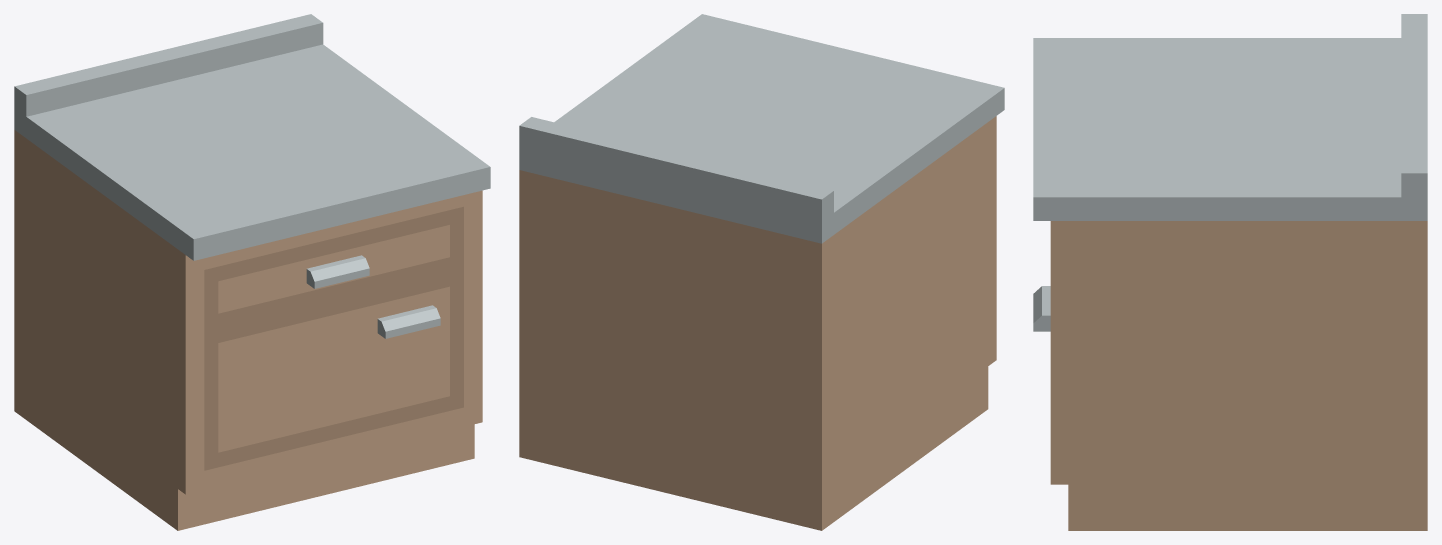
Rendered from kitchenCabinetDrawer.glb.
3 renders of one model, left to right at view 1: azimuth 30°, elevation 25°; view 2: azimuth 150°, elevation 25°; view 3: azimuth 270°, elevation 25°, orthographic. The views are drawn at different scales.
Visible parts, largest first — view 1: kitchenCabinetDrawer; view 2: kitchenCabinetDrawer; view 3: kitchenCabinetDrawer.
Part boxes in pixels (x1,y1,x2,y2): kitchenCabinetDrawer: [14, 14, 490, 530]; kitchenCabinetDrawer: [519, 14, 1004, 530]; kitchenCabinetDrawer: [1033, 14, 1427, 530].
Bounding box in the file's own units: 0.43 × 0.45 × 0.45.
